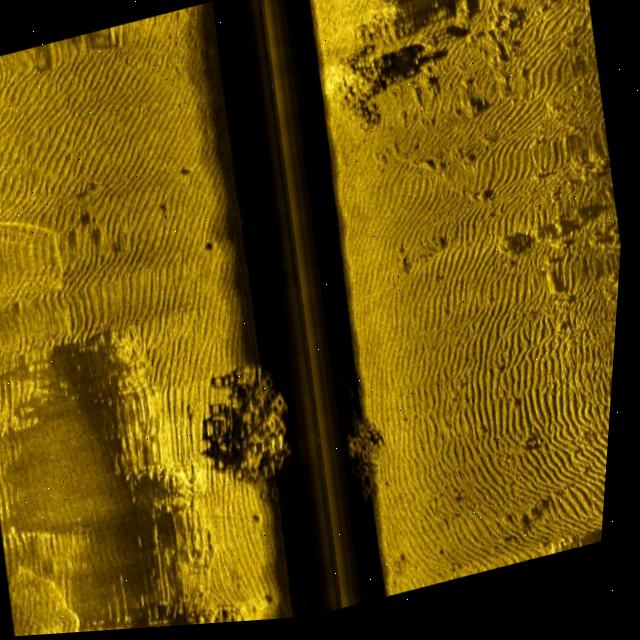artificial reef: (210, 352, 323, 522), (330, 394, 427, 522)
